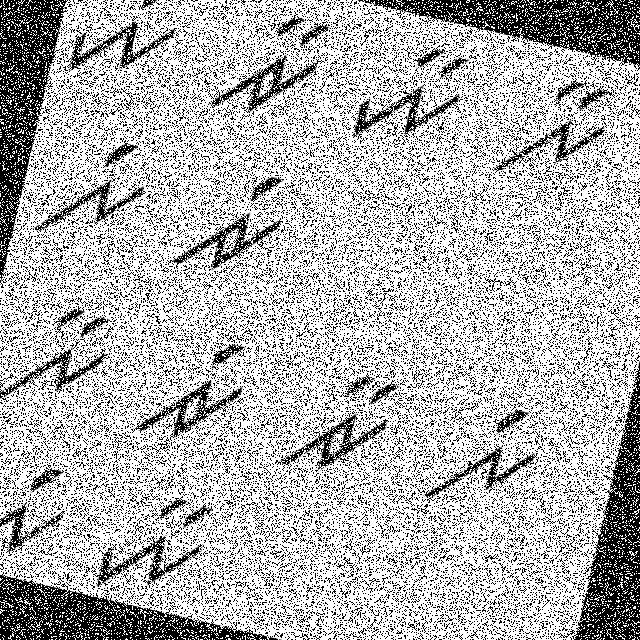lan: (478, 54, 620, 200), (0, 284, 126, 430)
lang: (410, 382, 548, 528), (26, 120, 158, 260)
ran: (272, 350, 410, 491), (200, 0, 335, 137)
rang: (164, 152, 303, 298), (120, 318, 260, 457)
yan: (77, 472, 224, 617), (339, 27, 479, 164)
yang: (56, 0, 193, 97), (0, 448, 79, 581)
